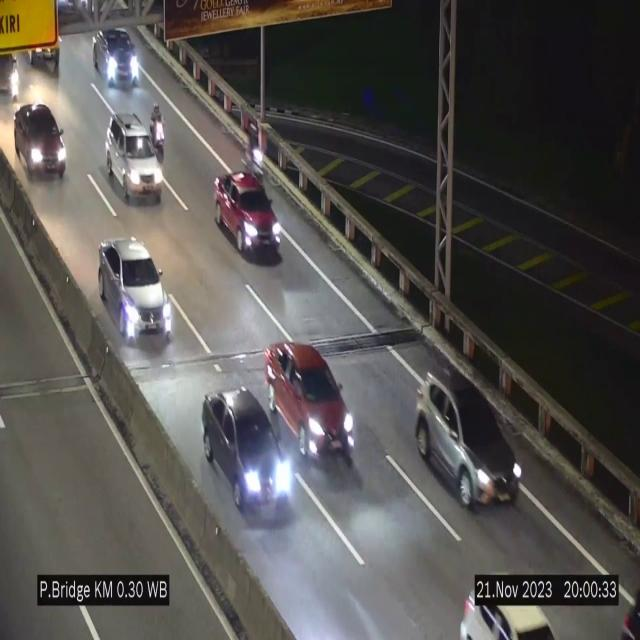Car: (415, 372, 523, 506), (200, 387, 290, 521), (267, 341, 359, 466), (99, 236, 173, 343), (456, 567, 554, 640), (214, 170, 282, 260), (106, 112, 166, 201), (14, 102, 68, 188), (88, 25, 146, 92), (0, 46, 30, 100)
Motorcycle: (145, 98, 169, 150), (244, 120, 264, 182)
